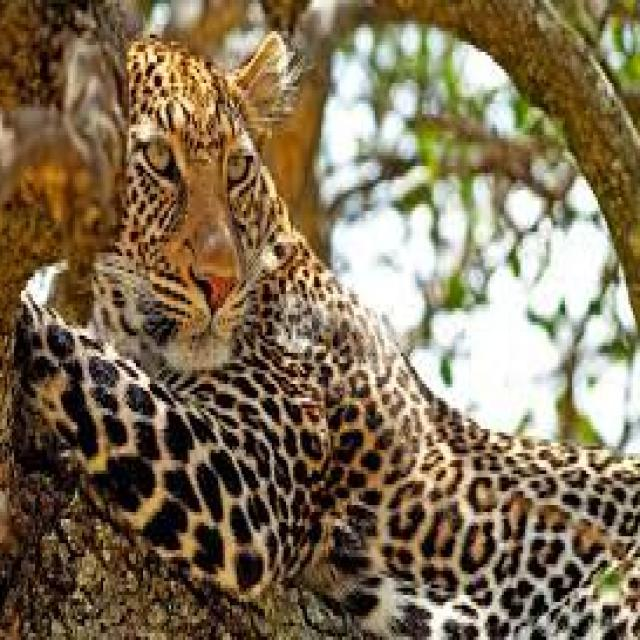leopard: (19, 31, 640, 637)
